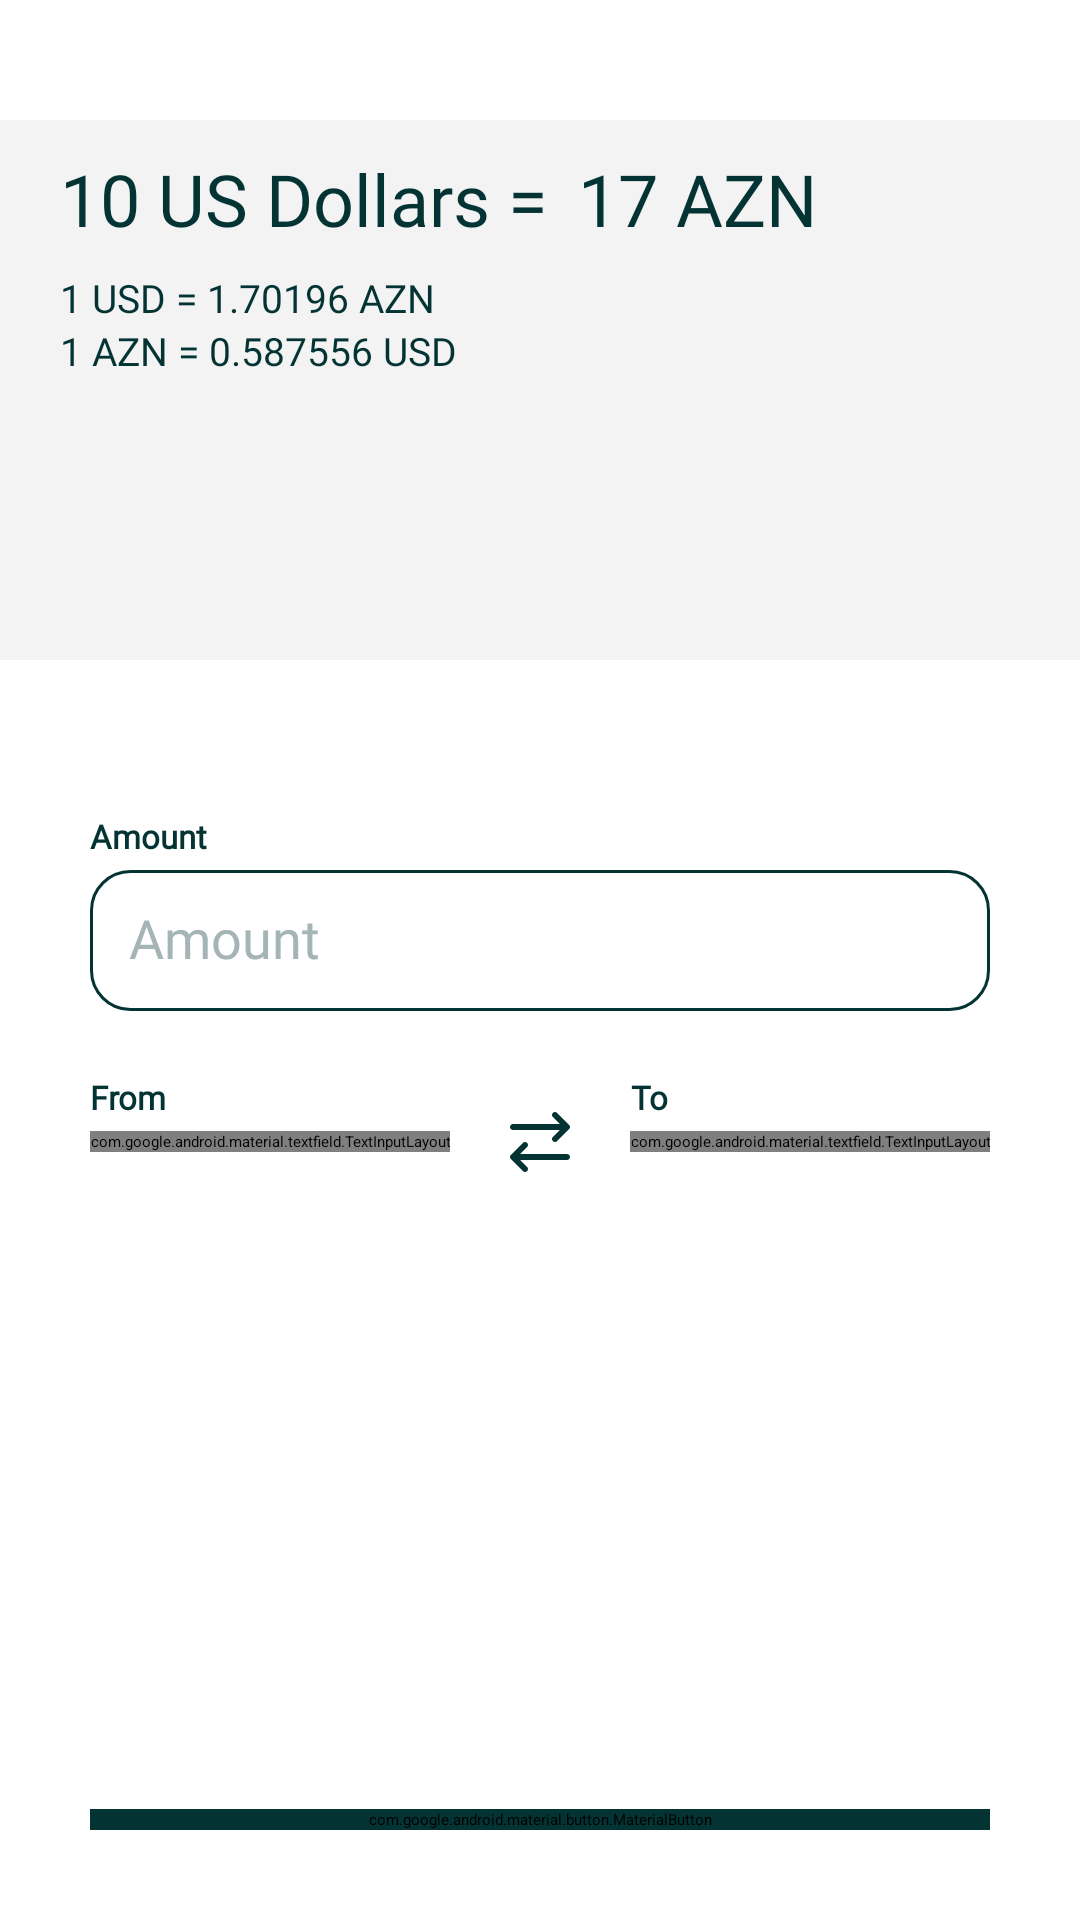

Where icons sit on this 1080 x 1920 app screen, as (x1, y1, x2, y2):
convert: (510, 1112, 570, 1172)
